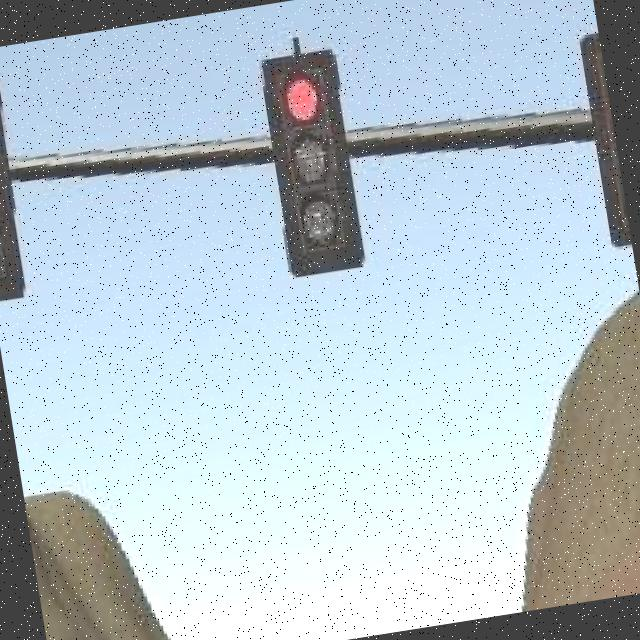Czerwone swiatlo: (262, 46, 368, 278), (0, 67, 35, 299)
